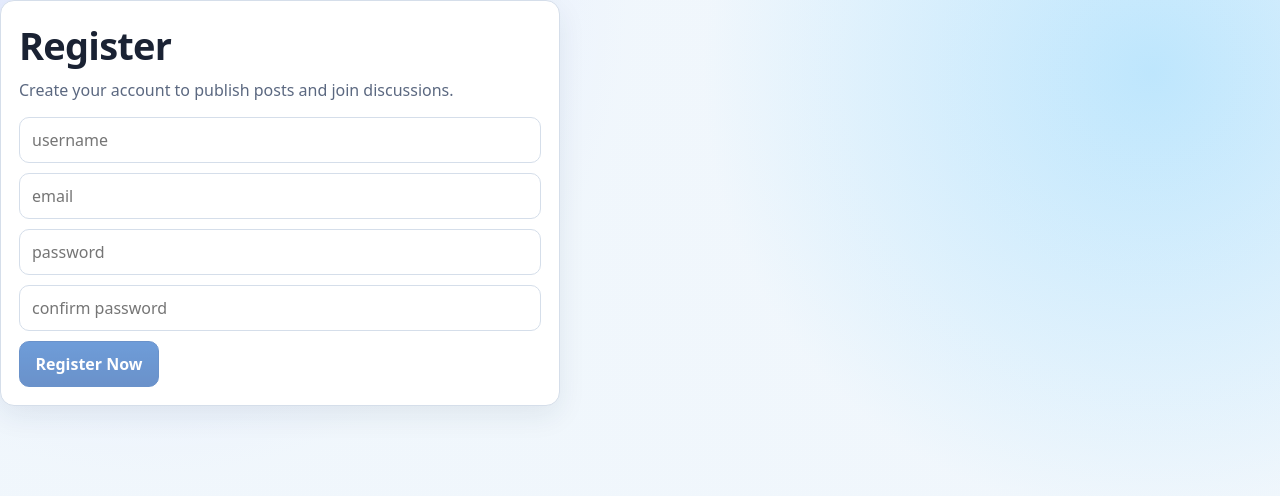
Test: RegisterPage › shows validation error for invalid email
Type "asdf" into the field with placeholder "username". click: (280, 140)
box: 19,117 -> 541,163
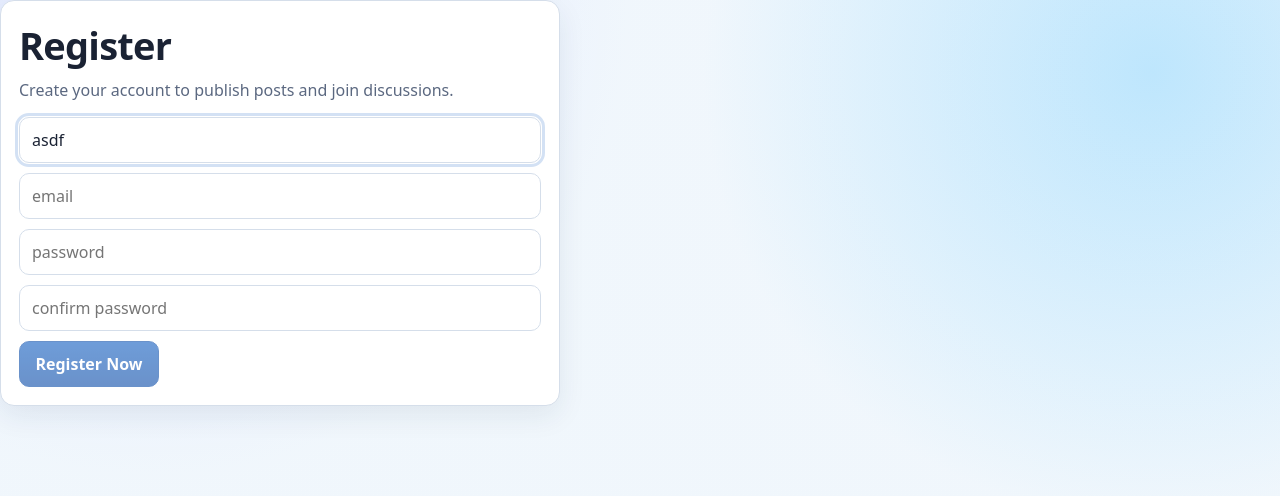
Type "asdf" into the field with placeholder "email". click: (280, 196)
box: 19,173 -> 541,219
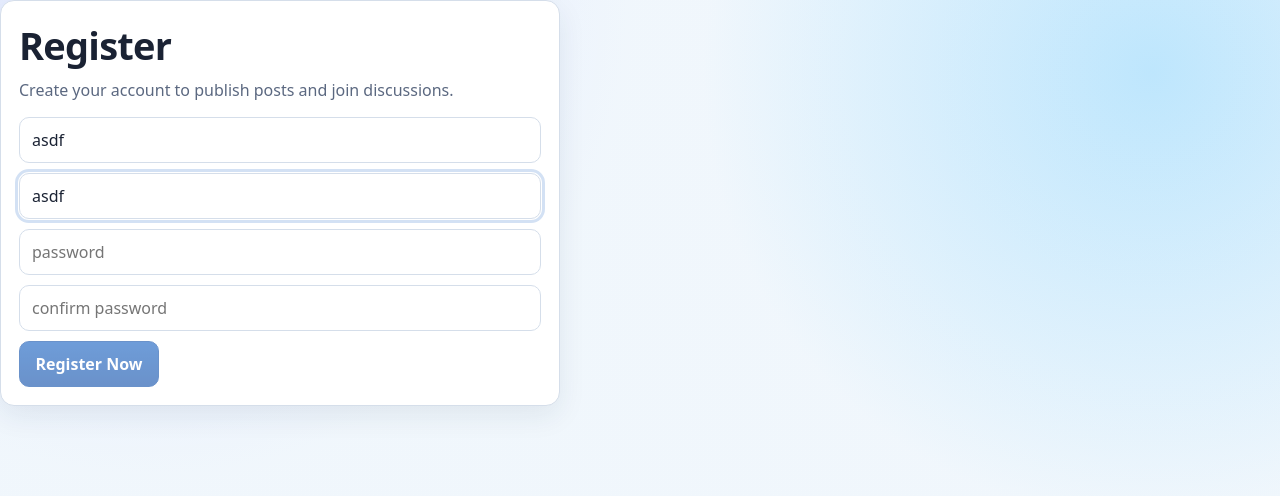
Type "Asdf@1234" into the password field with placeholder "password". click: (280, 252)
box: 19,229 -> 541,275
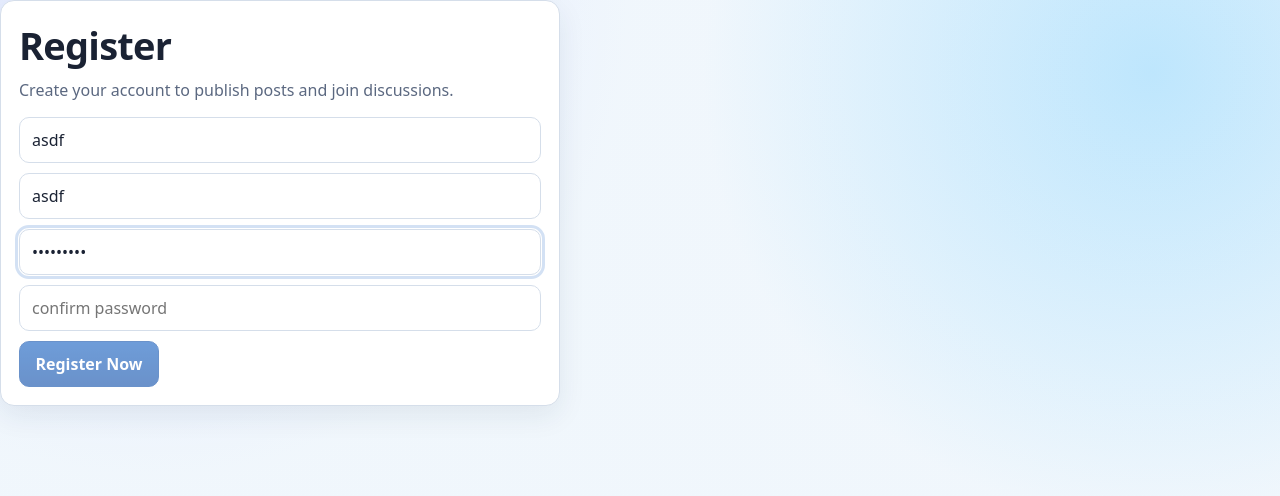
Type "Asdf@1234" into the password field with placeholder "confirm password". click: (280, 308)
box: 19,285 -> 541,331
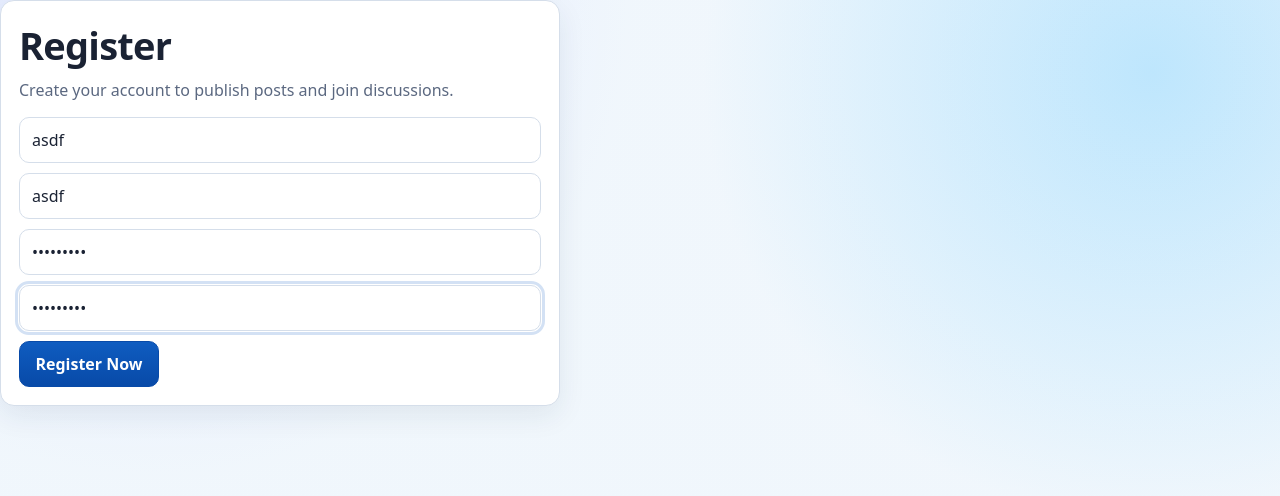
Click the button "Register Now". click: (89, 364)
box: 19,341 -> 159,387
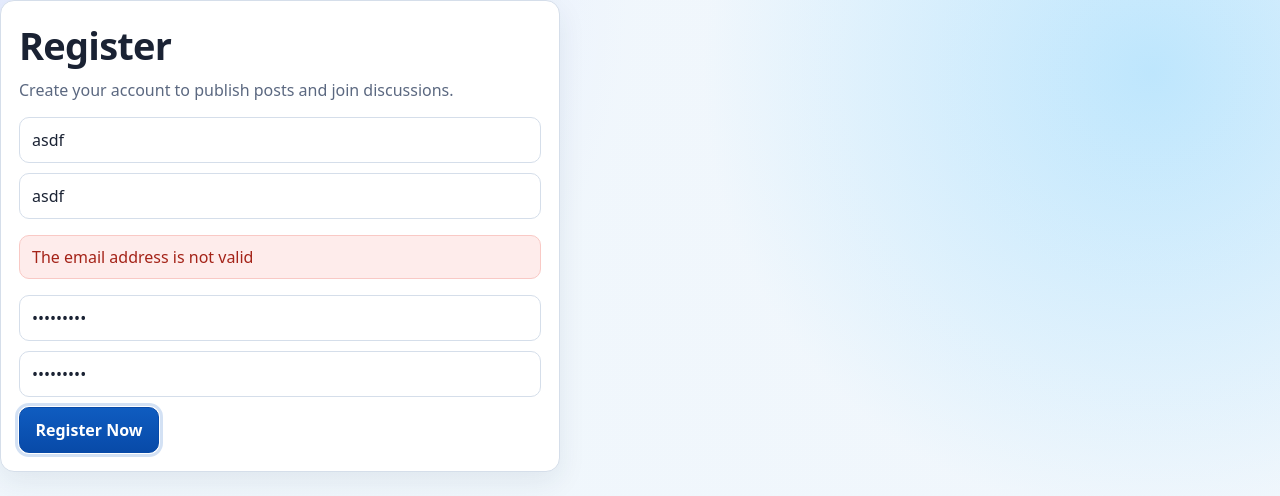
Check: the text "The email address is not valid" is shown, box 19,235 -> 541,279
